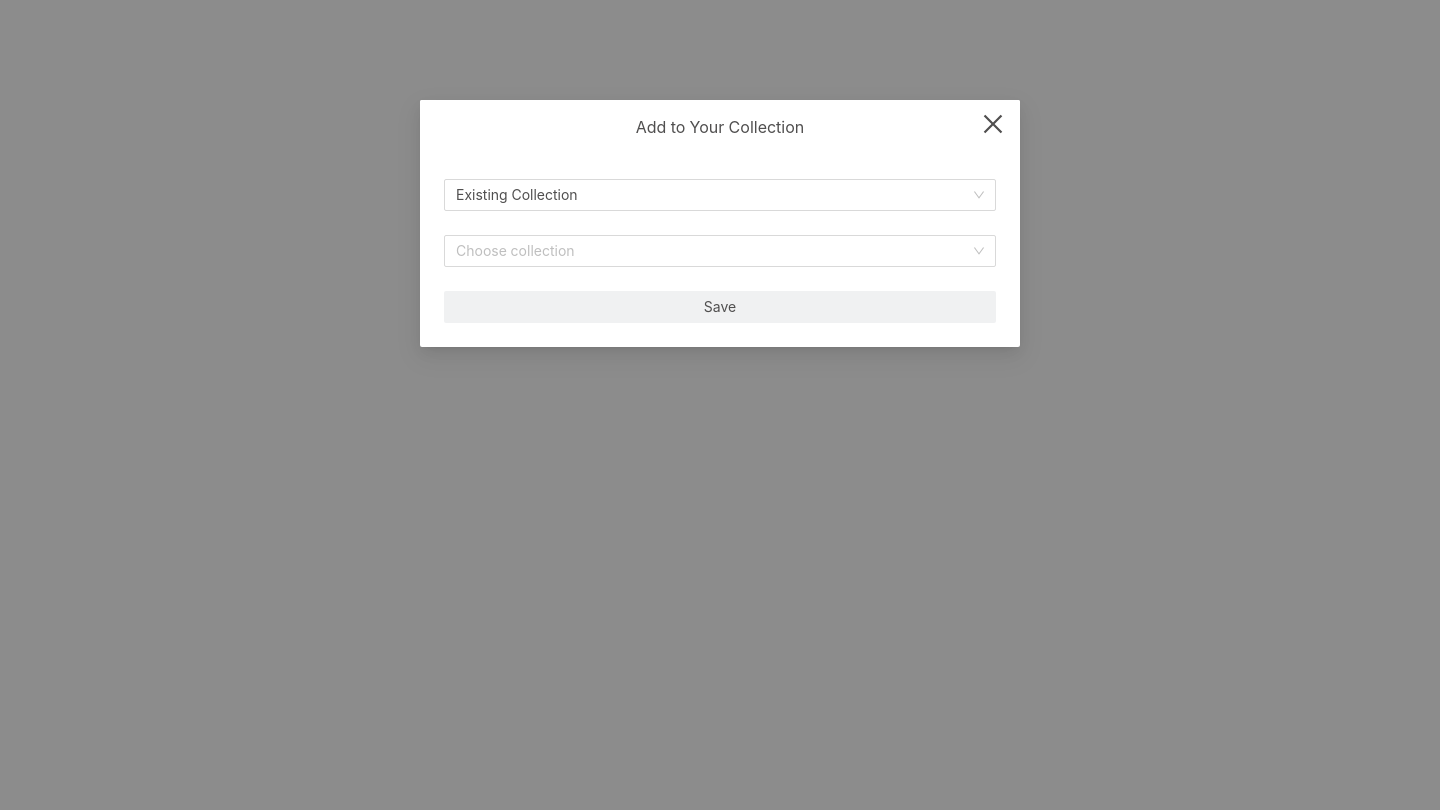
Test: ModalAddAnime › should be able to save after choosing existing collection
Check: the text "Choose collection" is shown, box [456,242,575,259]
Press the mouse on the dropdown labelled "Choose collection" at {"x": 720, "y": 251}, box [444,235,996,267]
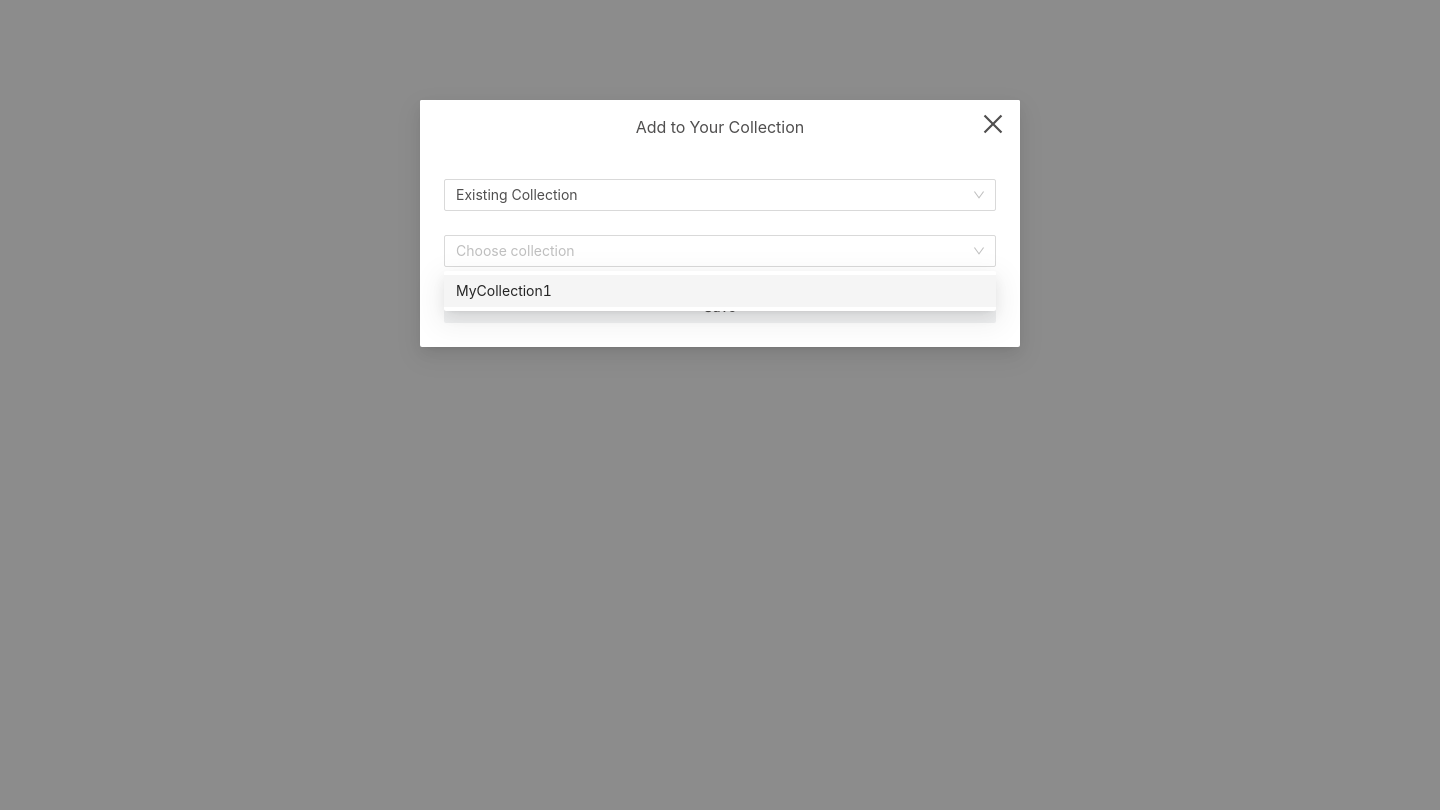
Check: the text "MyCollection1" is shown
Click the text "MyCollection1" at {"x": 504, "y": 290}, box [456,282,552,299]
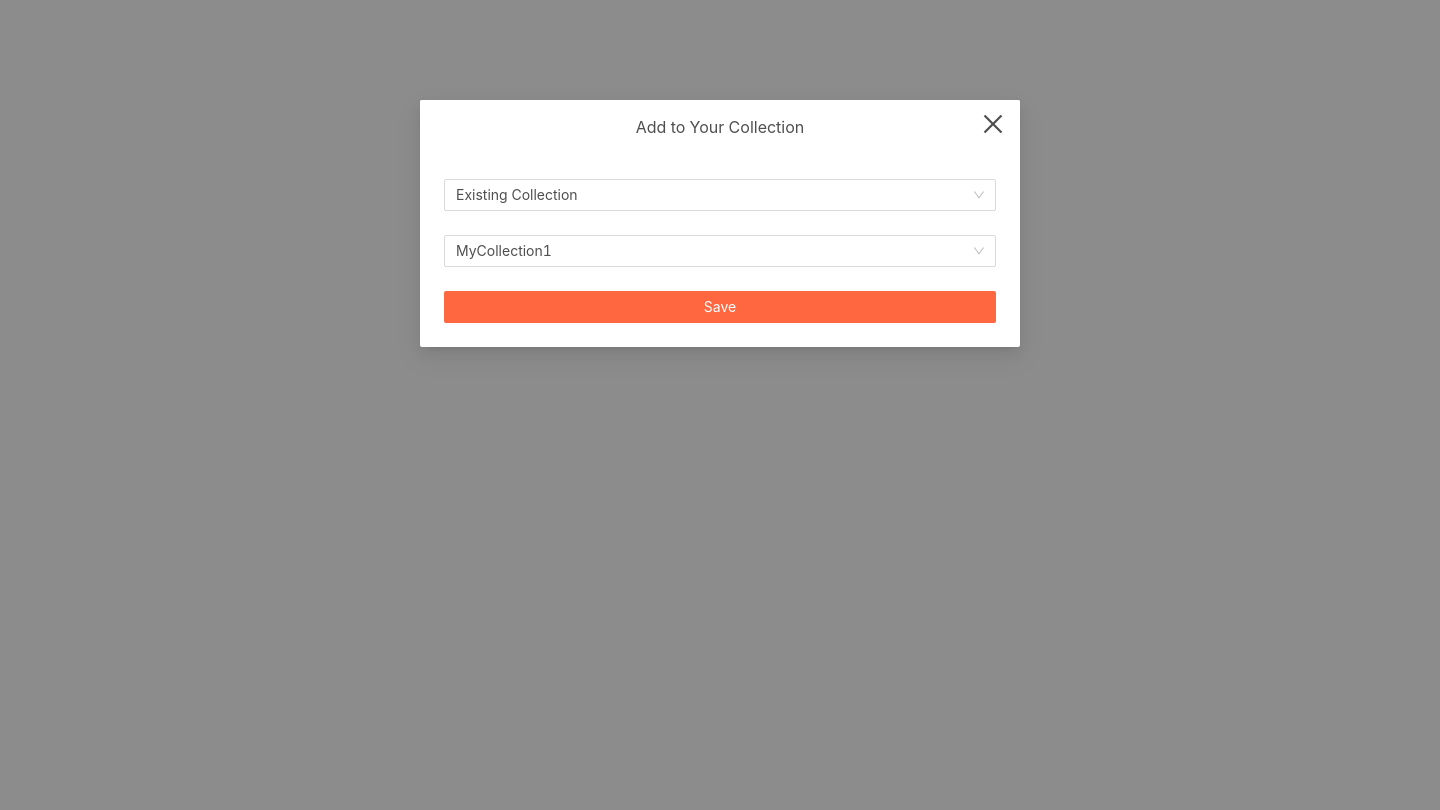
Check: the button "Save" is enabled, box [444,291,996,323]
